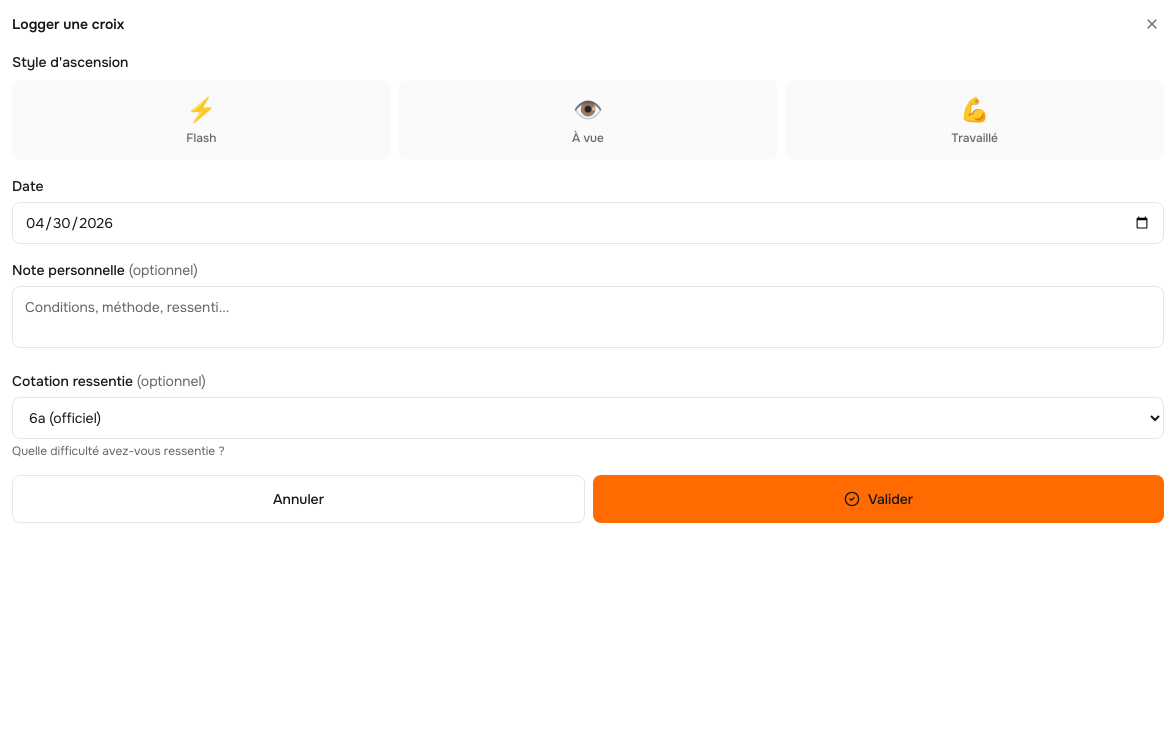
Test: TickForm › should show validation error when submitting without style
This screenshot has width=1176, height=732.
Step 1. Click the button "Valider" → (878, 499), box top-left (593, 475), bottom-right (1164, 523)
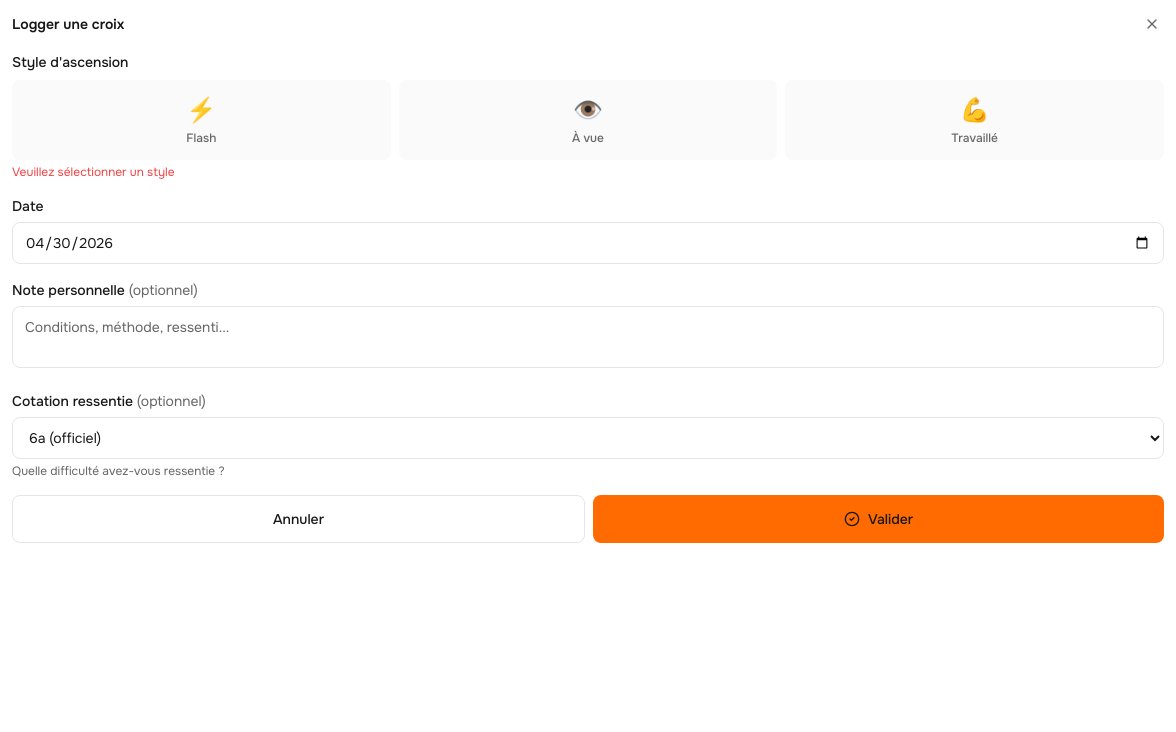
Check: the text "Veuillez sélectionner un style" is shown, box top-left (12, 164), bottom-right (175, 180)
